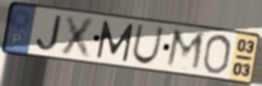J: (34, 14, 64, 53)
M: (163, 27, 208, 74), (95, 19, 136, 64)
O: (201, 33, 234, 76)
U: (130, 23, 166, 66)
X: (58, 13, 100, 60)
